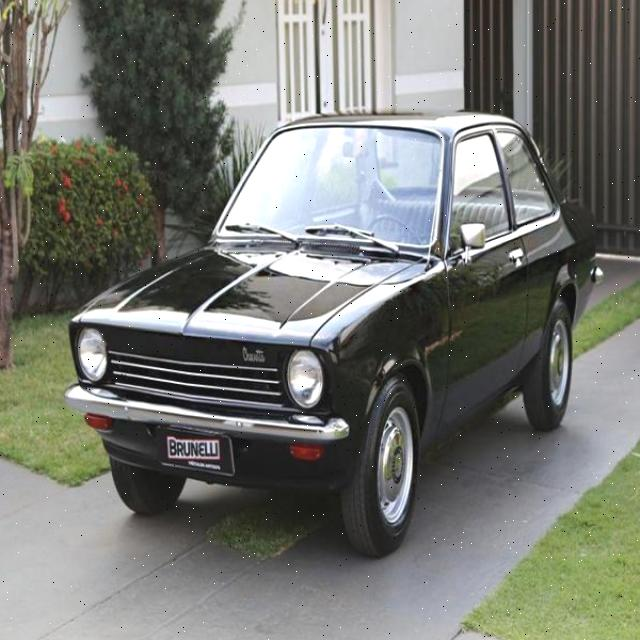car: (64, 114, 603, 558)
